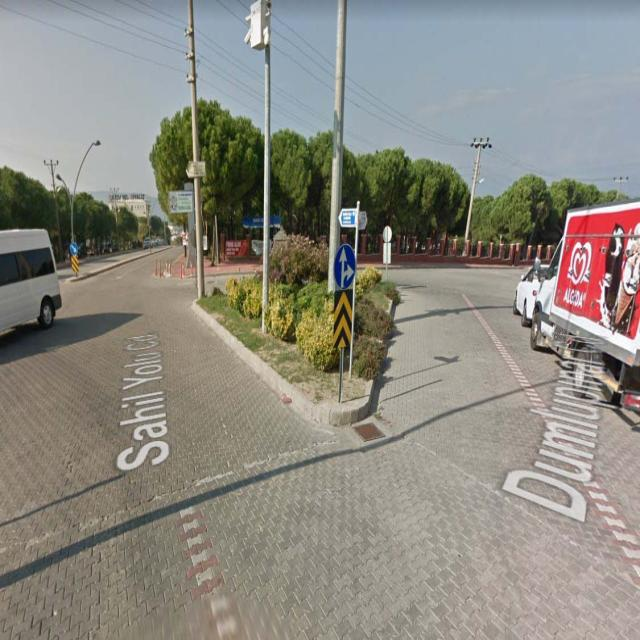ilerisag: (334, 244, 355, 290)
